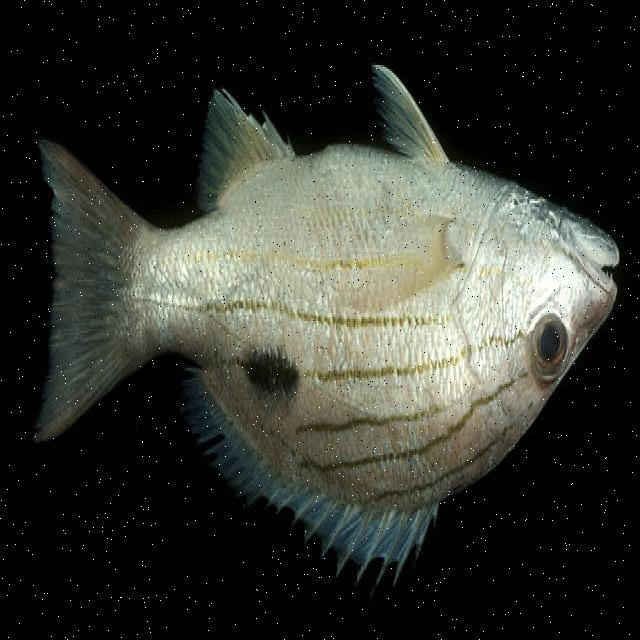ikan: (32, 61, 621, 599)
